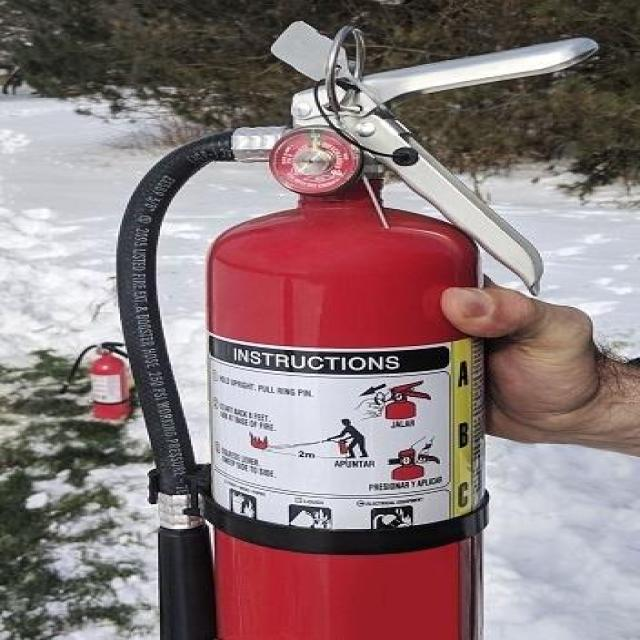fire_extinguisher: (110, 16, 601, 638)
